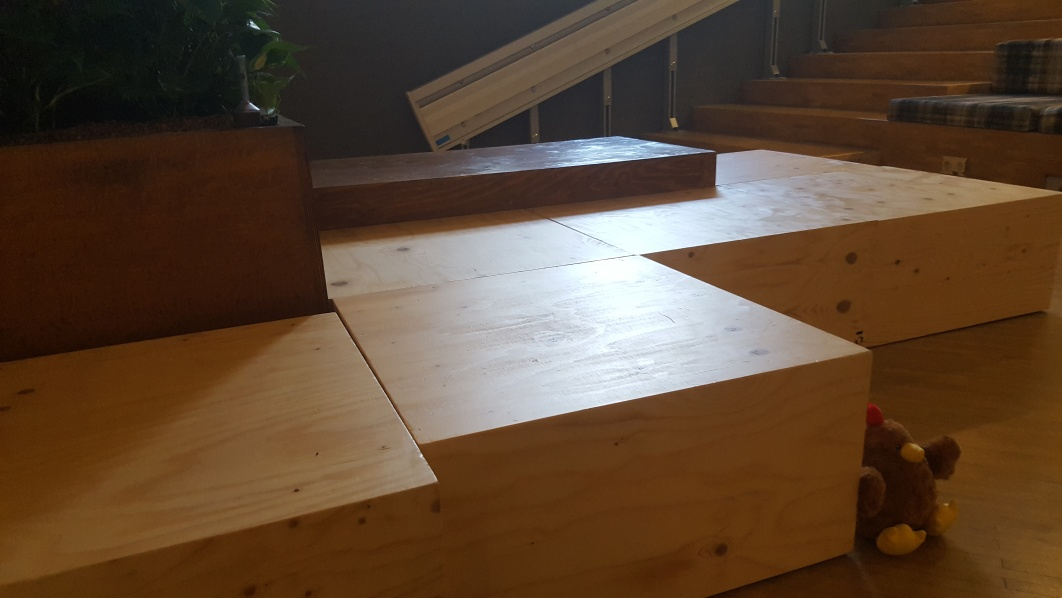chicken: (857, 401, 962, 559)
